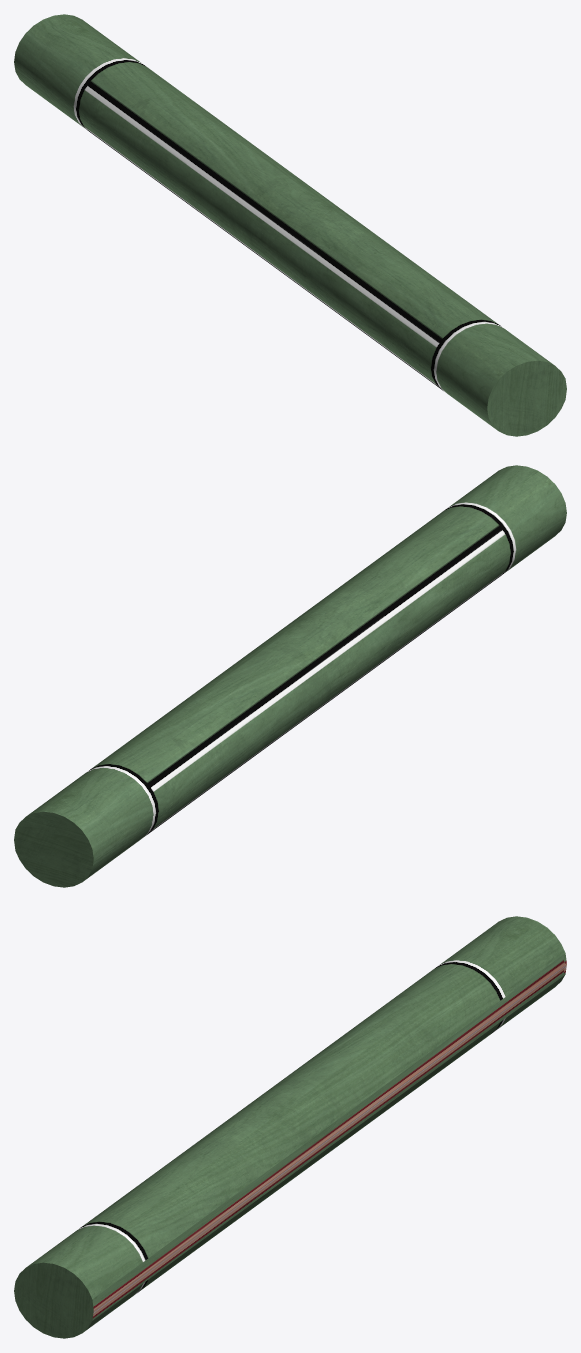
The model's file is SM_SJJ_HG_CrossBeam04A.fbx.
3 renders of one model, top to bottom at view 1: azimuth 30°, elevation 25°; view 2: azimuth 150°, elevation 25°; view 3: azimuth 330°, elevation 25°, orthographic.
Visible parts, largest first — view 1: SM_SJJ_HG_CrossBeam04A_LOD0; view 2: SM_SJJ_HG_CrossBeam04A_LOD0; view 3: SM_SJJ_HG_CrossBeam04A_LOD0.
Part boxes in pixels (x1,y1,x2,y2): SM_SJJ_HG_CrossBeam04A_LOD0: (14,14,566,436); SM_SJJ_HG_CrossBeam04A_LOD0: (14,465,566,887); SM_SJJ_HG_CrossBeam04A_LOD0: (14,916,566,1338).
Size of the model in its own units: 32.97 by 338 by 28.98.
1 material, 1 textured.
